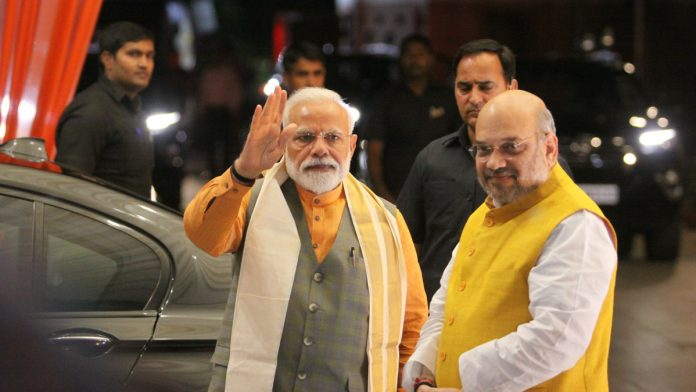modi: (236, 83, 377, 287)
